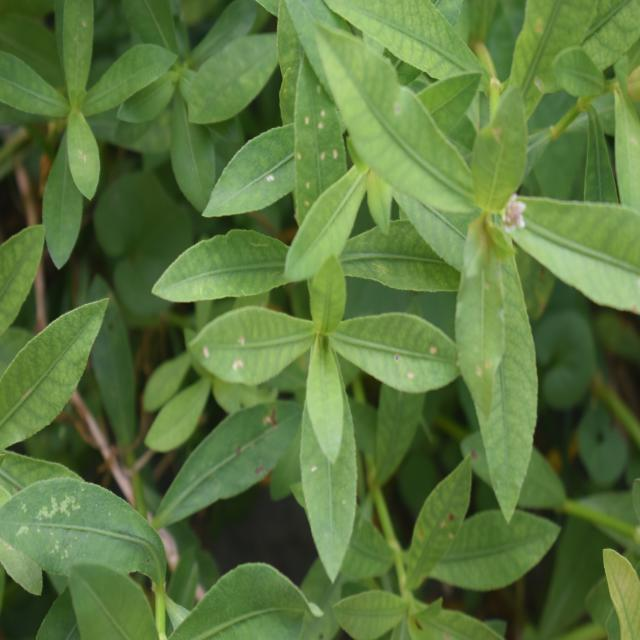Alligatorweed: (162, 73, 460, 572), (334, 24, 625, 474), (0, 0, 184, 233)
